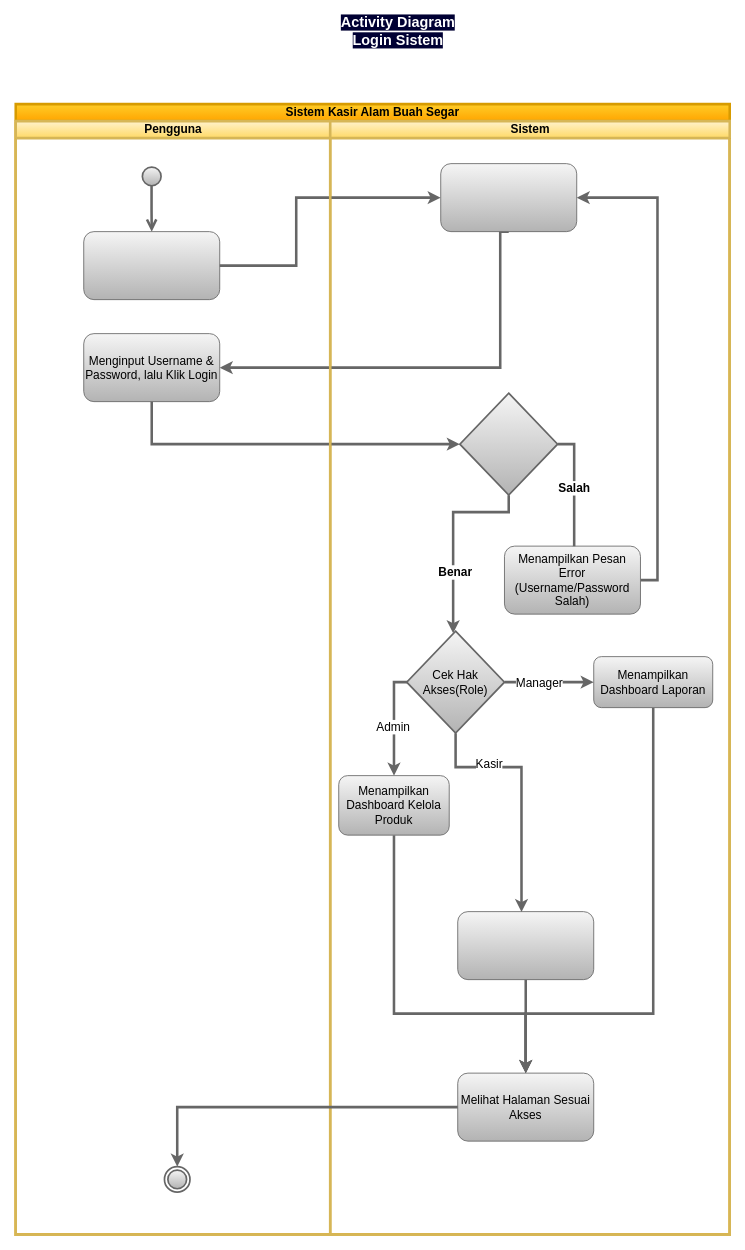
The diagram is 745 pixels wide and 1250 high, and some of its shapes have lost their labels. Each missing label, with the centre of its shape:
Membuka Aplikasi / Form Login: [151,265]
Menampilkan Form Transaksi: [525,945]
Menampilkan Halaman Login: [508,197]
Username Dan Password Valid?: [508,444]
